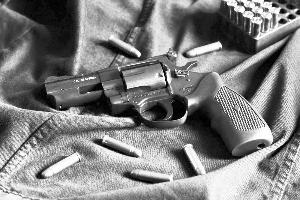handgun: (32, 40, 266, 188)
